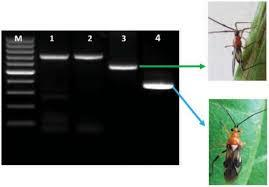Helopeltis-insect: (224, 27, 253, 72), (225, 125, 245, 184)
